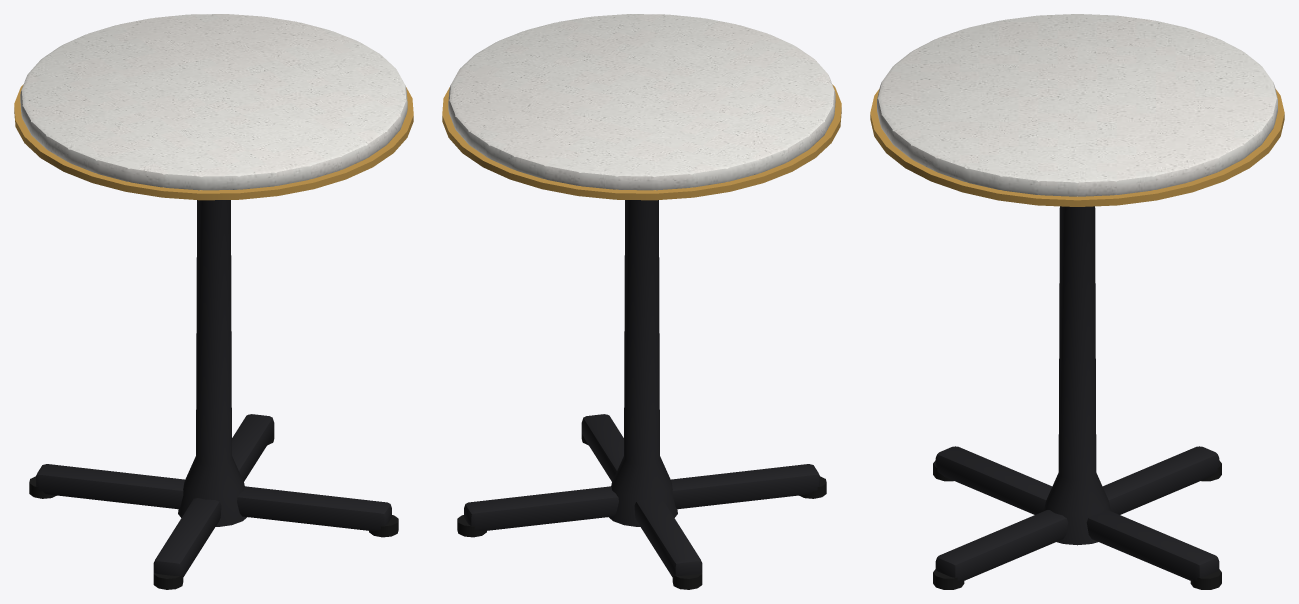
File: cafe_table.glb
The picture shows the model from 3 angles, left to right: view 1: azimuth 30°, elevation 25°; view 2: azimuth 150°, elevation 25°; view 3: azimuth 270°, elevation 25°; orthographic projection. The views are drawn at different scales.
Parts seen in each view (by area): view 1: body; view 2: body; view 3: body.
Part boxes in pixels (bbox=[...]): body: bbox=[14, 14, 413, 589]; body: bbox=[442, 14, 841, 589]; body: bbox=[870, 14, 1284, 589].
Size of the model in its own units: 0.66 by 0.76 by 0.66.
4 materials, 1 textured.
